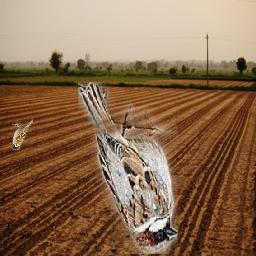Sparrow: (78, 82, 178, 254), (13, 118, 34, 150)
